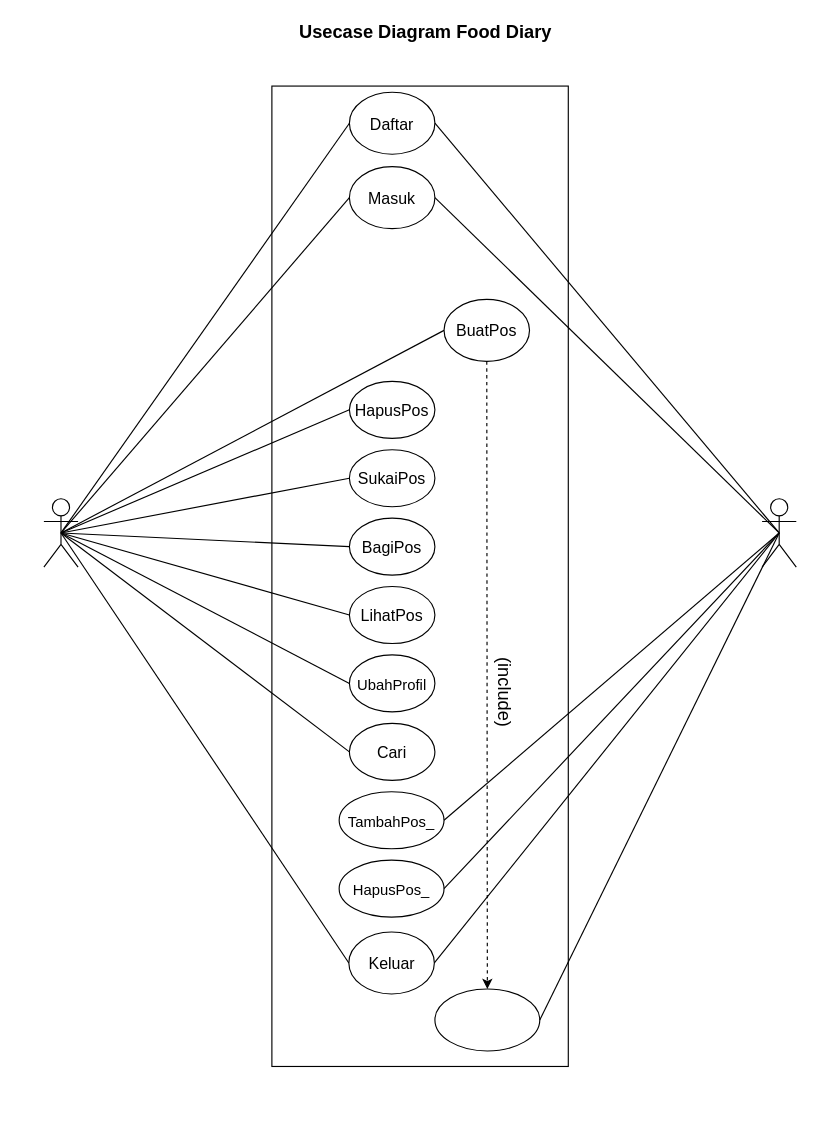
Image size: 824x1122. Some labels were removed from this diagram. Here are the shapes that lost their labels. From the top down, the box of each, then its label:
(43, 498, 78, 567): Pengguna
(761, 498, 796, 567): Admin
(434, 988, 540, 1051): UpdatePos_
